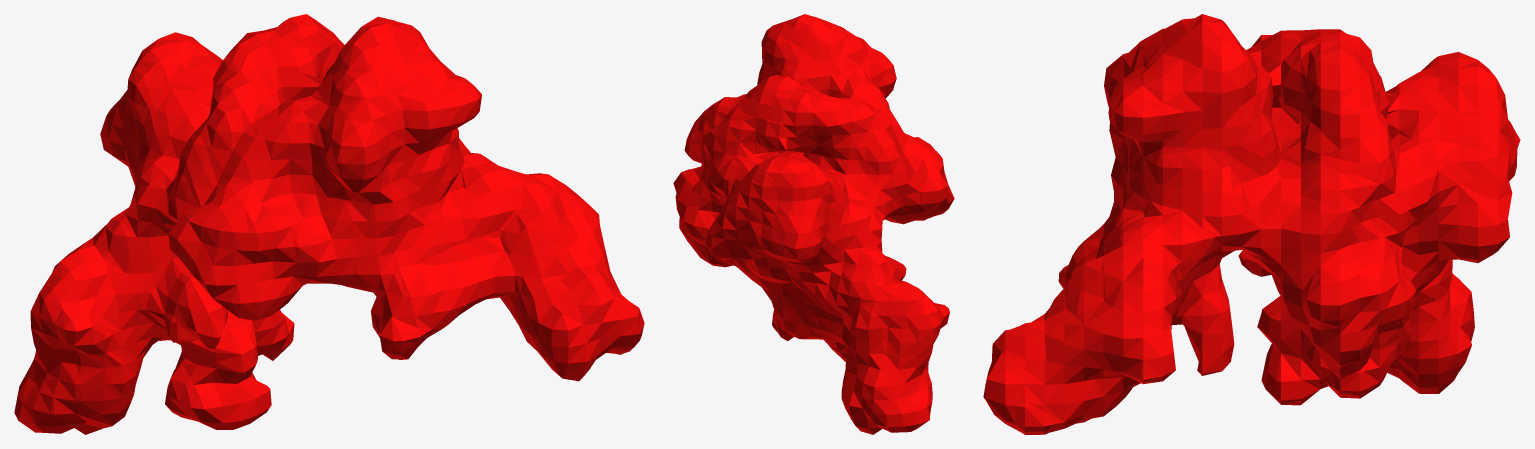
Rendered from secA_coarse.dae.
The picture shows the model from 3 angles, left to right: view 1: azimuth 30°, elevation 25°; view 2: azimuth 150°, elevation 25°; view 3: azimuth 270°, elevation 25°; orthographic projection. The views are drawn at different scales.
Visible parts, largest first — view 1: secA; view 2: secA; view 3: secA.
Boxes of the visible parts, x1,y1,x2,y2 form: secA: (14, 14, 644, 434); secA: (673, 14, 954, 434); secA: (983, 14, 1520, 434).
Size of the model in its own units: 127 by 116 by 120.
